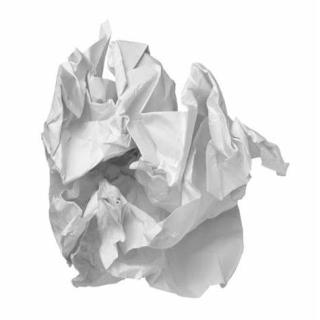Anorganik: (43, 17, 274, 295)
